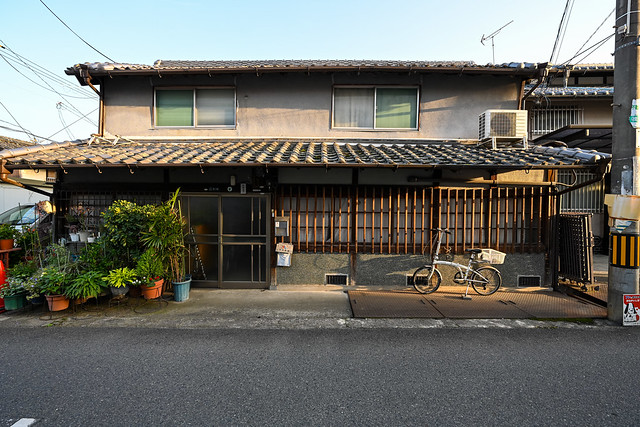medium: (1, 53, 639, 300)
